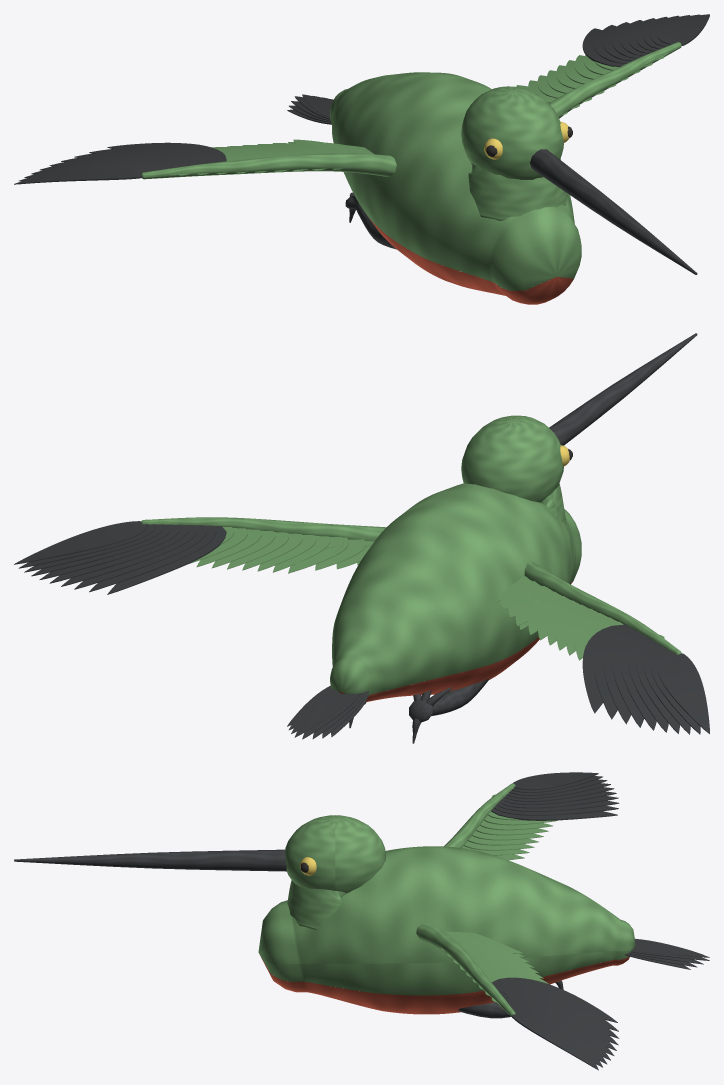
Rendered from birds-and-reptiles-hd-hummingbird-hovering-f339f3c3__28092.glb.
3 renders of one model, top to bottom at view 1: azimuth 30°, elevation 25°; view 2: azimuth 150°, elevation 25°; view 3: azimuth 270°, elevation 25°, orthographic. The views are drawn at different scales.
Visible parts, largest first — view 1: hummingbird-hovering; view 2: hummingbird-hovering; view 3: hummingbird-hovering.
Part boxes in pixels (x1,y1,x2,y2): hummingbird-hovering: [14, 14, 709, 304]; hummingbird-hovering: [14, 333, 709, 743]; hummingbird-hovering: [14, 772, 709, 1070].
Bounding box in the file's own units: 0.2032 × 0.061 × 0.2014.
5 materials, 3 textured.
